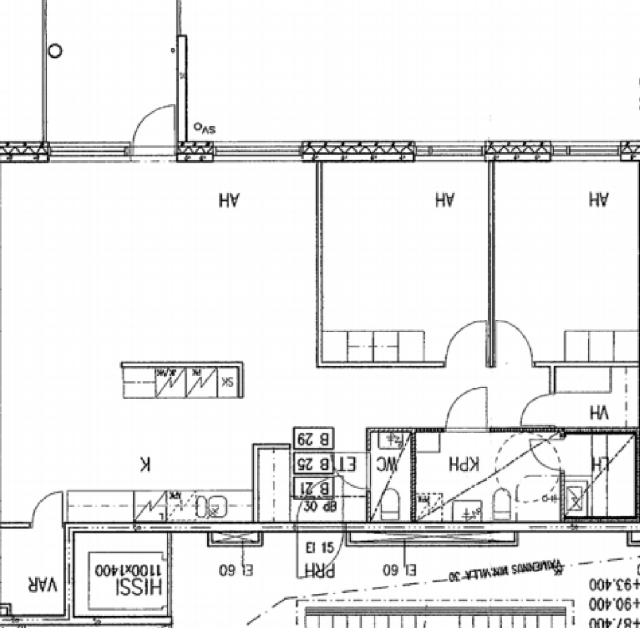door: (132, 98, 175, 162), (297, 476, 343, 532), (297, 522, 343, 578), (446, 319, 487, 366), (497, 320, 537, 367), (446, 387, 486, 432), (331, 452, 370, 488), (31, 491, 62, 528), (519, 394, 553, 426), (529, 439, 563, 470)
